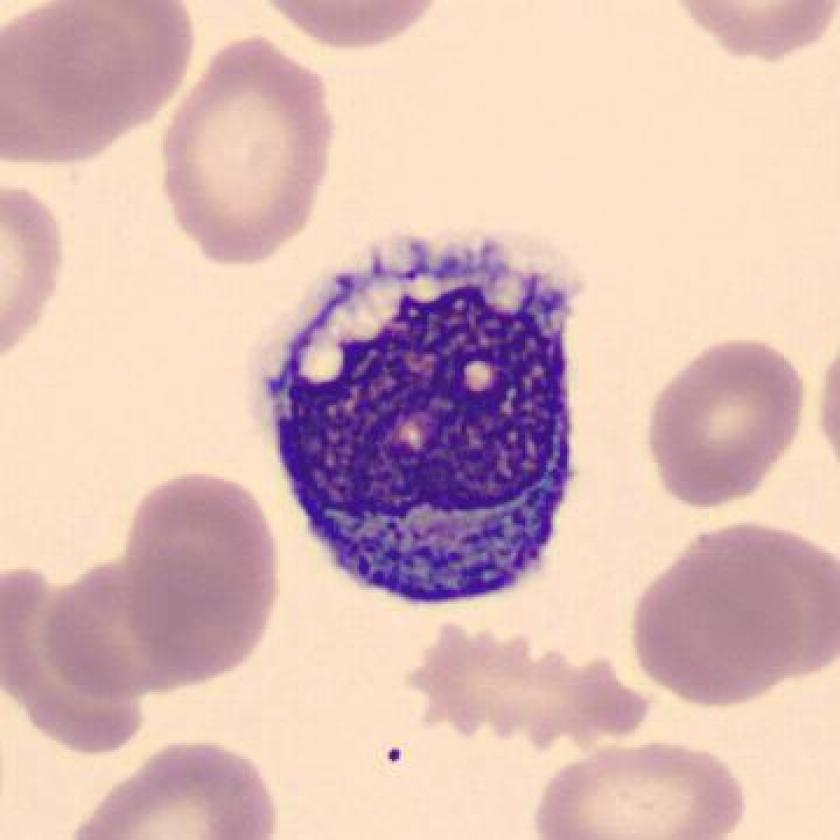monocyte: (232, 217, 612, 638)
